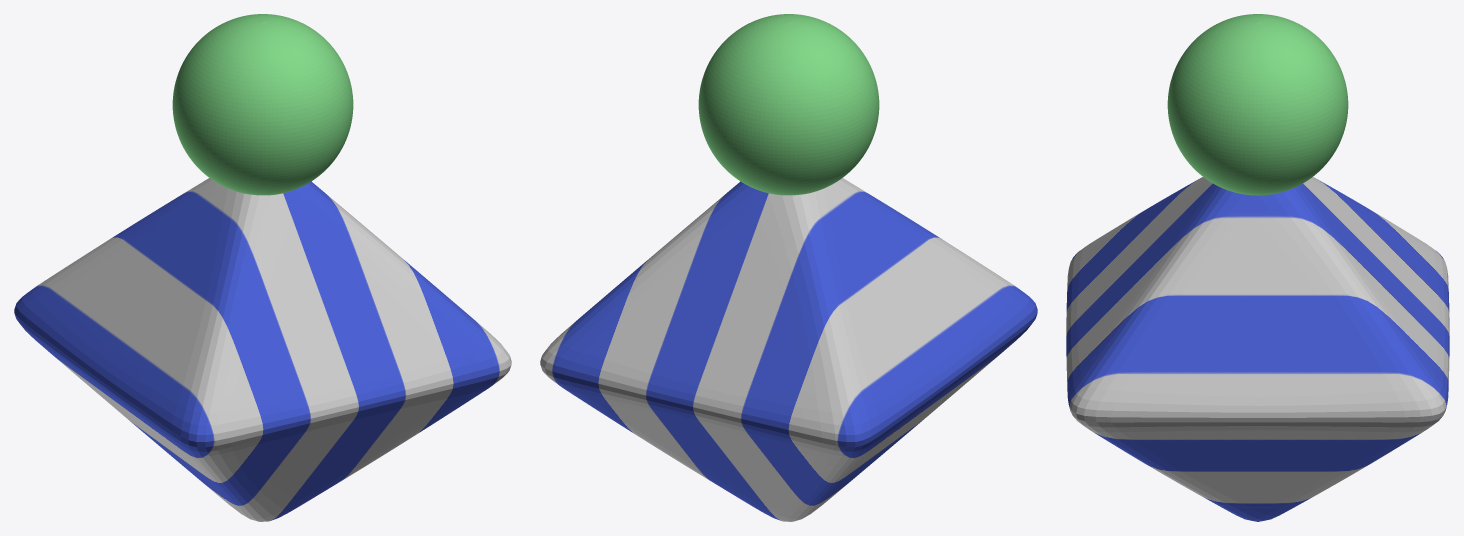
File: BOD4_BMC0_BCC13_BPT1_FRC0_HEA0_HMC13_HCC0_HPT0_ELT0_ERT0_ELL0_ERL0_AP0_AAL0_AAR0_BEK0.fbx
3 views of the same model, side by side, from view 1: azimuth 30°, elevation 25°; view 2: azimuth 150°, elevation 25°; view 3: azimuth 270°, elevation 25° (orthographic).
Parts seen in each view (by area): view 1: Body, Head; view 2: Body, Head; view 3: Body, Head.
Boxes of the visible parts, x1=… form: Body: x1=14, y1=178, x2=511, y2=521; Head: x1=172, y1=14, x2=353, y2=195; Body: x1=540, y1=178, x2=1037, y2=521; Head: x1=698, y1=14, x2=879, y2=195; Body: x1=1066, y1=177, x2=1449, y2=521; Head: x1=1167, y1=14, x2=1348, y2=195.
Size of the model in its own units: 105 by 150 by 105.
2 materials, 2 textured.
